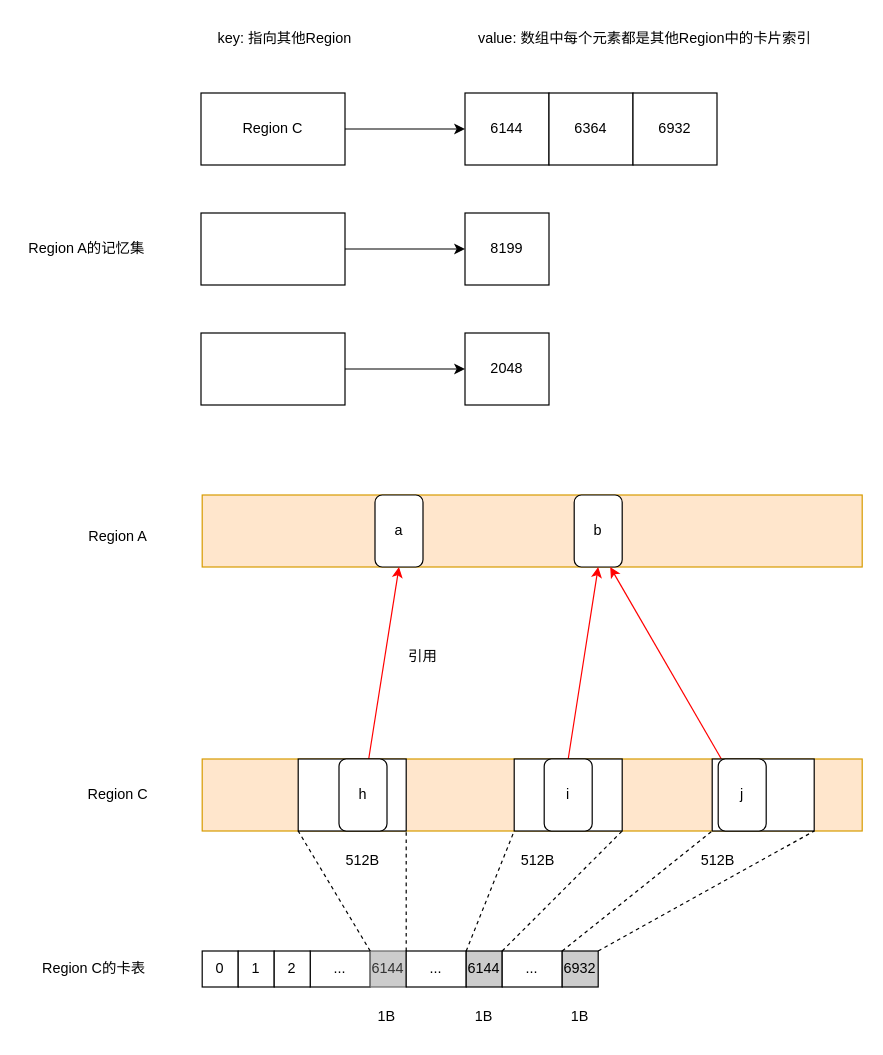
Image size: 883x1055. Some labels were removed from this diagram. Here are the shapes that lost their labels. From the top down, the box of each, then its label:
(200, 212, 345, 285): Region D
(200, 332, 345, 405): Region B
